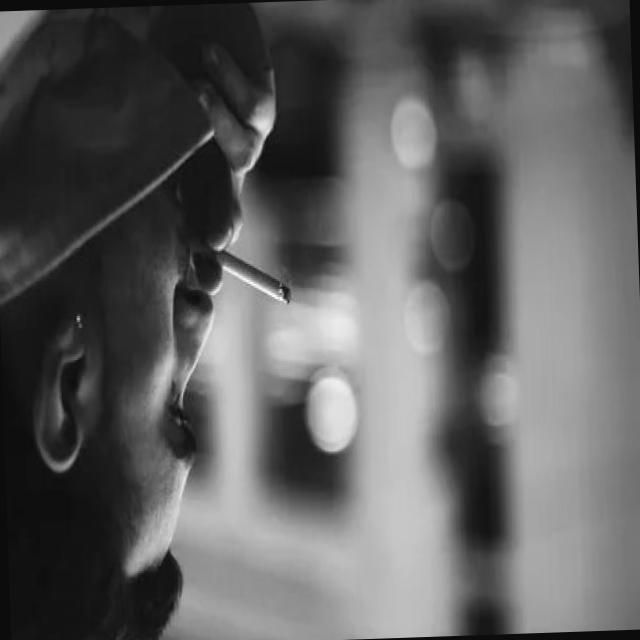cigarette: (213, 236, 296, 317)
